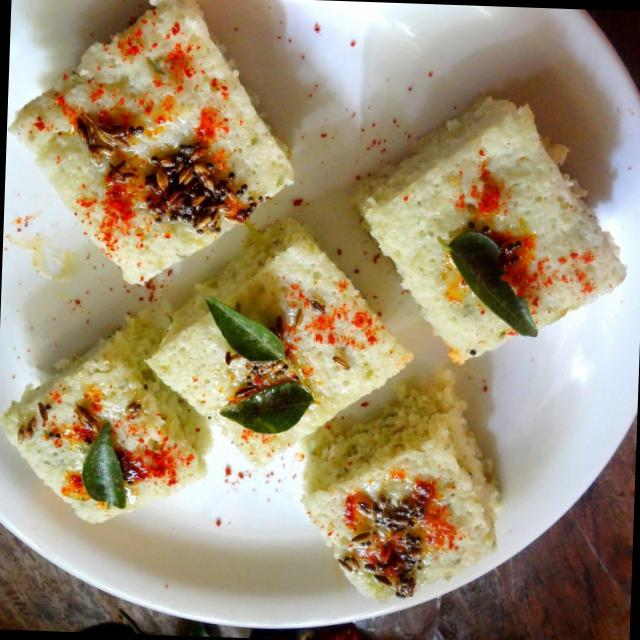dhokla: (0, 0, 627, 607)
